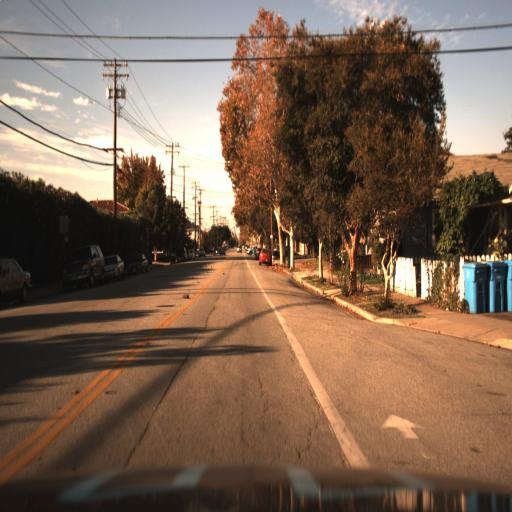car: (56, 237, 106, 294), (0, 254, 33, 308), (66, 244, 106, 285), (95, 247, 117, 285), (102, 249, 126, 282), (126, 250, 151, 277), (258, 247, 273, 266), (170, 243, 184, 261), (174, 248, 188, 264), (217, 242, 228, 261), (235, 241, 246, 257), (250, 245, 260, 259), (184, 247, 191, 263)
